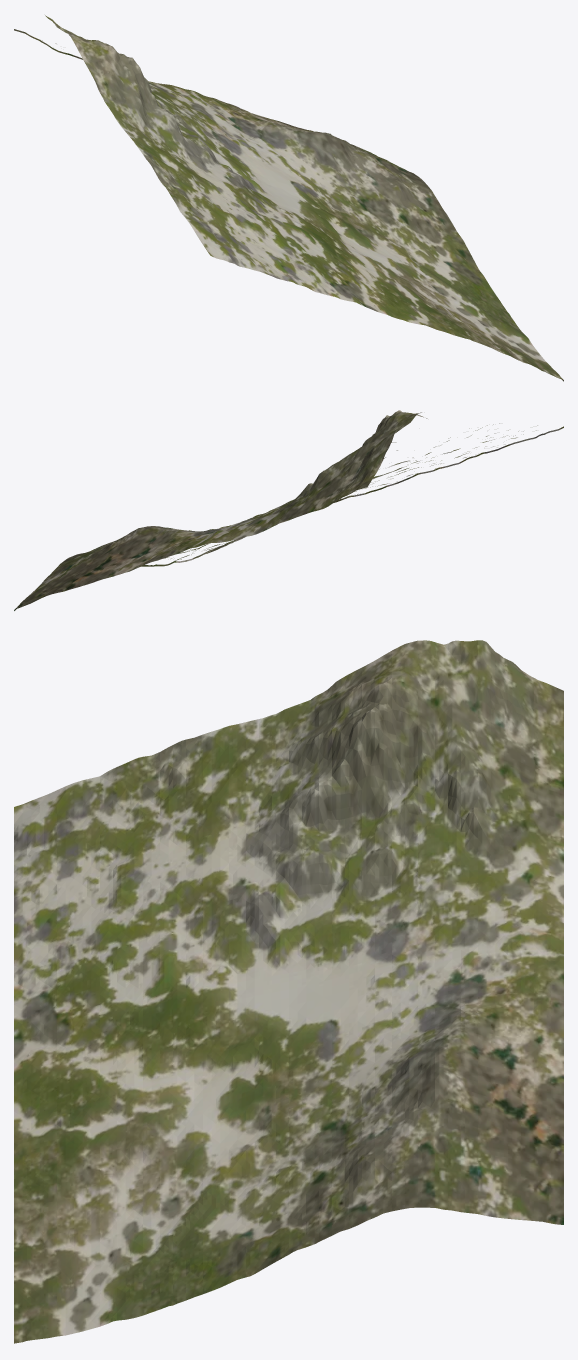
3 views of the same model, one above another, from view 1: azimuth 30°, elevation 25°; view 2: azimuth 150°, elevation 25°; view 3: azimuth 270°, elevation 25° (orthographic). The views are drawn at different scales.
Bounding box in the file's own units: 250 × 224 × 241.
1 material, 1 textured.
